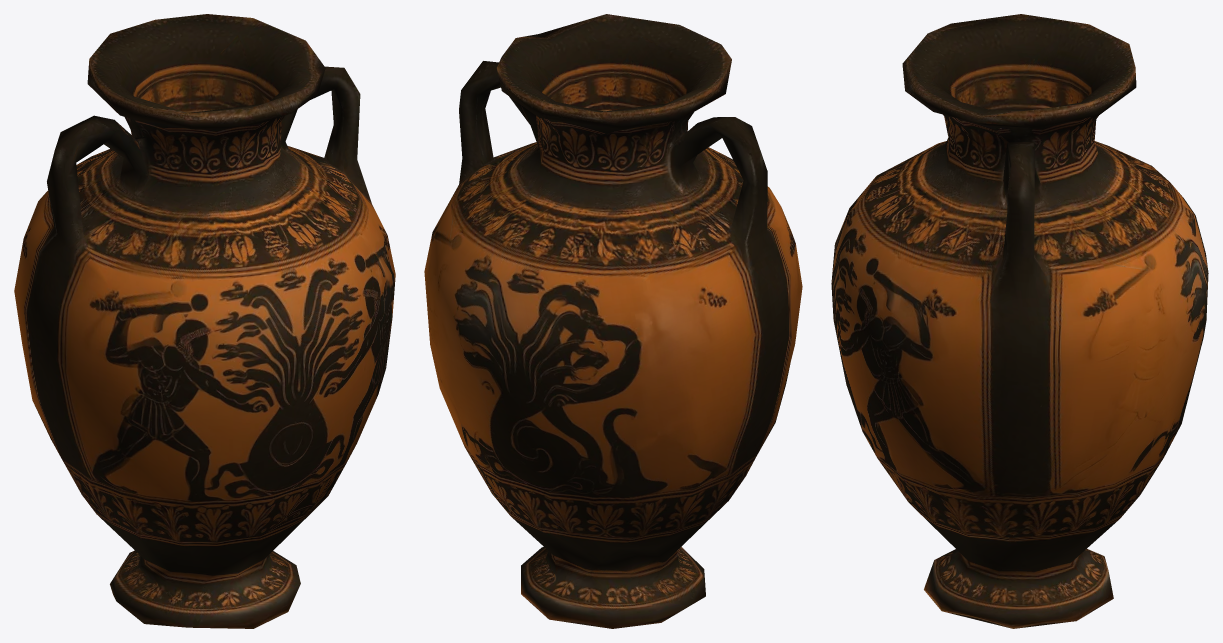
Rendered from vase.glb.
The picture shows the model from 3 angles, left to right: view 1: azimuth 30°, elevation 25°; view 2: azimuth 150°, elevation 25°; view 3: azimuth 270°, elevation 25°; orthographic projection.
Visible parts, largest first — view 1: Mesh1.0; view 2: Mesh1.0; view 3: Mesh1.0.
Part boxes in pixels (x1,y1,x2,y2): Mesh1.0: (14,14,395,628); Mesh1.0: (424,14,802,628); Mesh1.0: (831,14,1208,628).
Bounding box in the file's own units: 1.32 × 2.01 × 1.3.
1 material, 1 textured.
